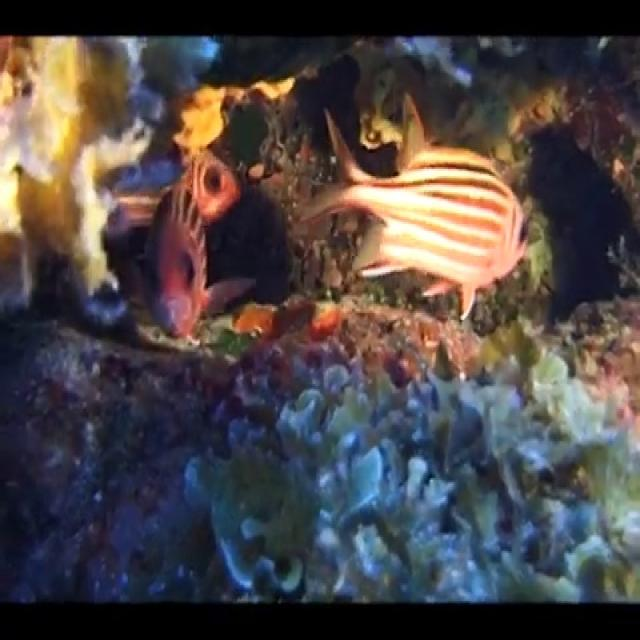Asker Baligi: (296, 90, 531, 322)
